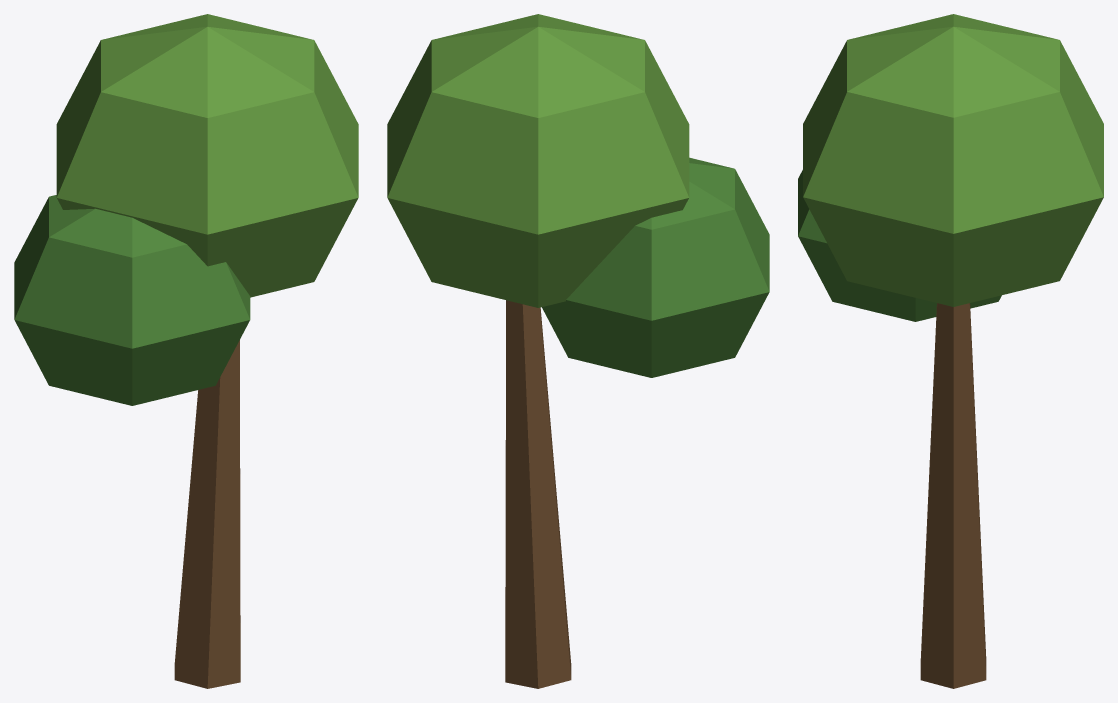
File: tree_tall_lod1.obj
3 renders of one model, left to right at view 1: azimuth 30°, elevation 25°; view 2: azimuth 150°, elevation 25°; view 3: azimuth 270°, elevation 25°, orthographic.
Visible parts, largest first — view 1: tree_tall_lod1; view 2: tree_tall_lod1; view 3: tree_tall_lod1.
Boxes of the visible parts, <box> form: tree_tall_lod1: <box>14,14,358,688</box>; tree_tall_lod1: <box>387,14,769,688</box>; tree_tall_lod1: <box>798,14,1103,688</box>.
Bounding box in the file's own units: 3.85 × 6.57 × 2.82.
1 material, 1 textured.
